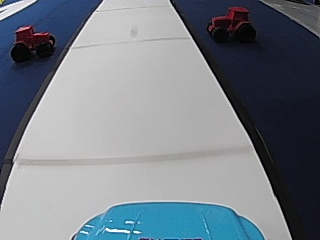tractor: (205, 5, 255, 44), (9, 22, 56, 62)
